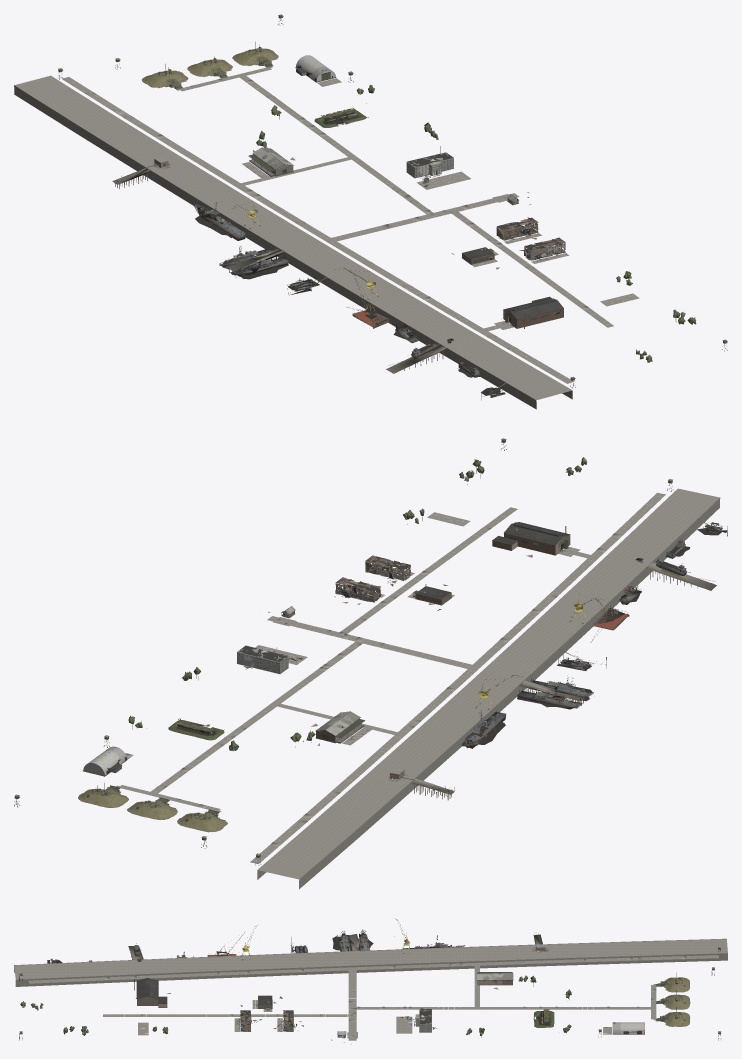
Rendered from site_port_lo.glb.
3 renders of one model, top to bottom at view 1: azimuth 30°, elevation 25°; view 2: azimuth 150°, elevation 25°; view 3: azimuth 270°, elevation 25°, orthographic. The views are drawn at different scales.
Parts seen in each view (by area): view 1: deco|tile_conc, deco|F_A, b_shop|F_A, b_store|F_A, deco_trees|F_A, b_hq|F_A, b_ttb|F_A; view 2: deco|tile_conc, deco|F_A, b_shop|F_A, b_store|F_A, b_hq|F_A, deco_trees|F_A, b_ttb|F_A; view 3: deco|tile_conc, deco|F_A, b_shop|F_A, b_store|F_A, deco_trees|F_A, b_ttb|F_A, b_msl1|F_A, b_msl2|F_A, b_msl3|F_A, b_hq|F_A, b_bar1_ruin|F_B, b_rgs_ruin|F_B (+2 smaller).
Part boxes in pixels (left/top/right/bottom): deco|tile_conc: left=14, top=66, right=639, bottom=409; deco|F_A: left=58, top=14, right=727, bottom=400; b_shop|F_A: left=503, top=296, right=563, bottom=328; b_store|F_A: left=248, top=147, right=293, bottom=176; deco_trees|F_A: left=256, top=84, right=696, bottom=362; b_hq|F_A: left=406, top=146, right=453, bottom=178; b_ttb|F_A: left=295, top=55, right=336, bottom=82; deco|tile_conc: left=116, top=488, right=720, bottom=889; deco|F_A: left=14, top=438, right=727, bottom=865; b_shop|F_A: left=492, top=522, right=570, bottom=555; b_store|F_A: left=315, top=711, right=365, bottom=743; b_hq|F_A: left=237, top=645, right=288, bottom=673; deco_trees|F_A: left=128, top=457, right=586, bottom=751; b_ttb|F_A: left=83, top=746, right=127, bottom=776; deco|tile_conc: left=14, top=938, right=727, bottom=1040; deco|F_A: left=19, top=919, right=721, bottom=1040; b_shop|F_A: left=134, top=978, right=167, bottom=1007; b_store|F_A: left=477, top=972, right=513, bottom=985; deco_trees|F_A: left=20, top=975, right=571, bottom=1037; b_ttb|F_A: left=612, top=1022, right=644, bottom=1034; b_msl1|F_A: left=657, top=972, right=689, bottom=992; b_msl2|F_A: left=657, top=990, right=690, bottom=1009; b_msl3|F_A: left=657, top=1007, right=690, bottom=1026; b_hq|F_A: left=414, top=1009, right=431, bottom=1032; b_bar1_ruin|F_B: left=273, top=1010, right=303, bottom=1031; b_rgs_ruin|F_B: left=534, top=1011, right=554, bottom=1027.
Size of the model in its own units: 309 by 40.89 by 801.
86 materials, 53 textured.
